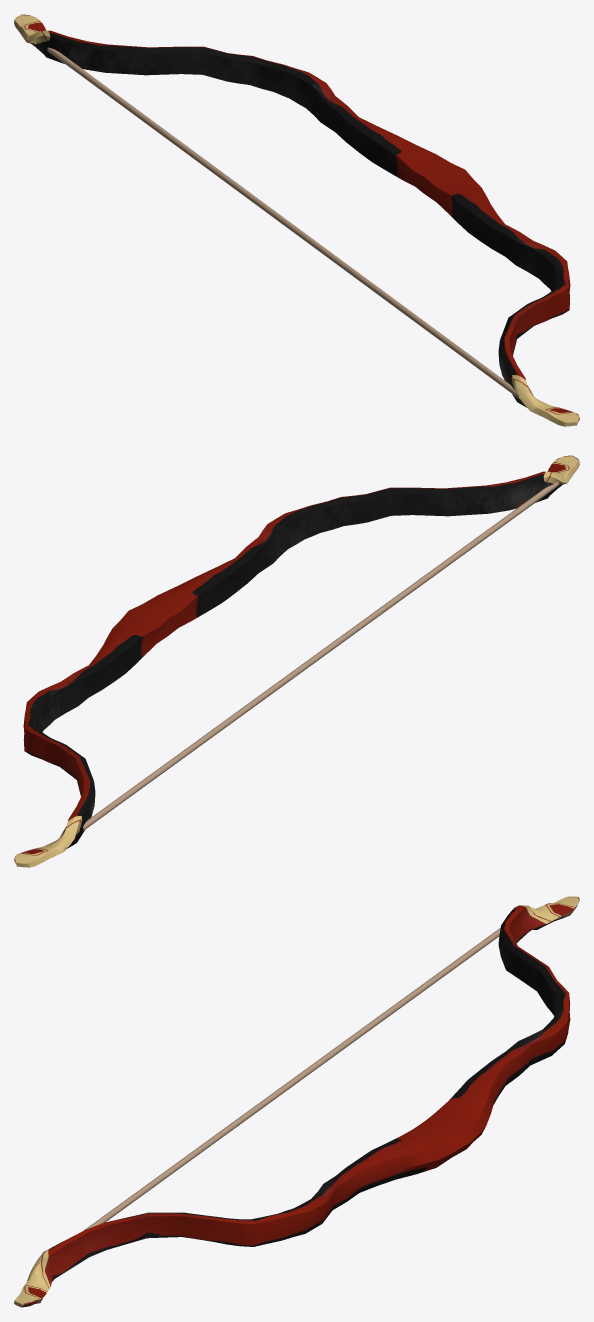
Rendered from bowFBX.fbx.
3 renders of one model, top to bottom at view 1: azimuth 30°, elevation 25°; view 2: azimuth 150°, elevation 25°; view 3: azimuth 330°, elevation 25°, orthographic.
Visible parts, largest first — view 1: BOW; view 2: BOW; view 3: BOW.
Part boxes in pixels (box(x1,y1,x2,y2)): BOW: box(14, 14, 579, 426); BOW: box(14, 455, 579, 867); BOW: box(14, 896, 579, 1307).
Bounding box in the file's own units: 71.13 × 15.03 × 352.
